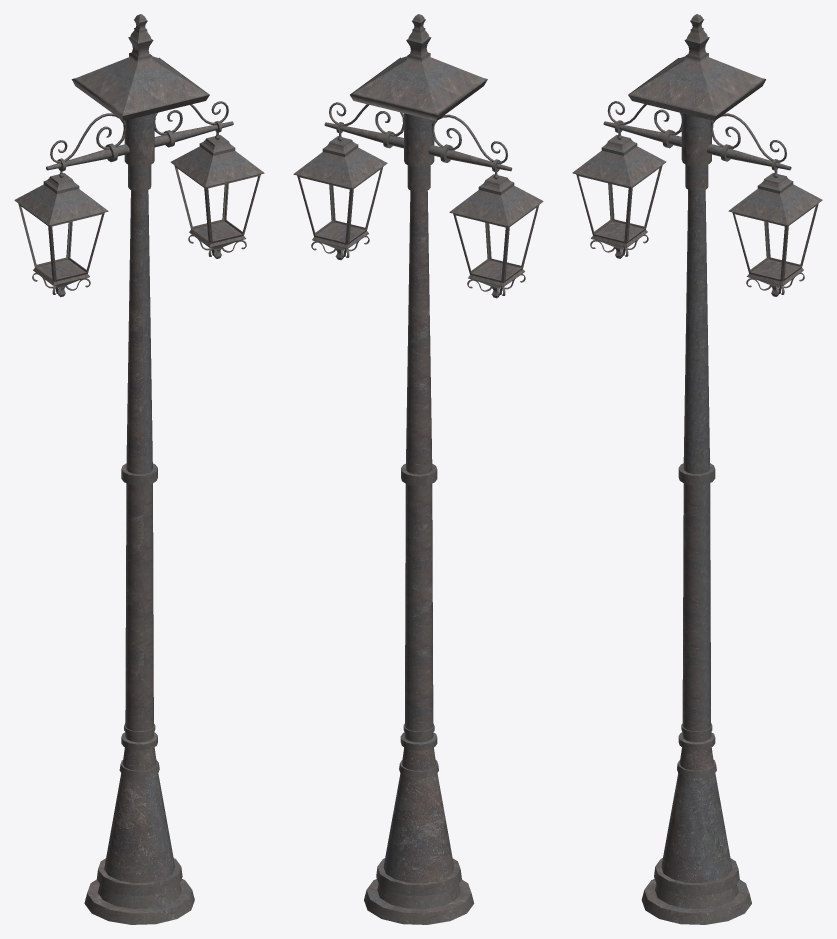
File: lamp post.fbx
3 views of the same model, side by side, from view 1: azimuth 30°, elevation 25°; view 2: azimuth 150°, elevation 25°; view 3: azimuth 330°, elevation 25° (orthographic).
Parts seen in each view (by area): view 1: polySurface25; view 2: polySurface25; view 3: polySurface25.
Boxes of the visible parts, <box> form: polySurface25: <box>14,14,264,924</box>; polySurface25: <box>293,14,543,924</box>; polySurface25: <box>572,14,822,924</box>.
Bounding box in the file's own units: 1.06 × 4.19 × 0.4619.
